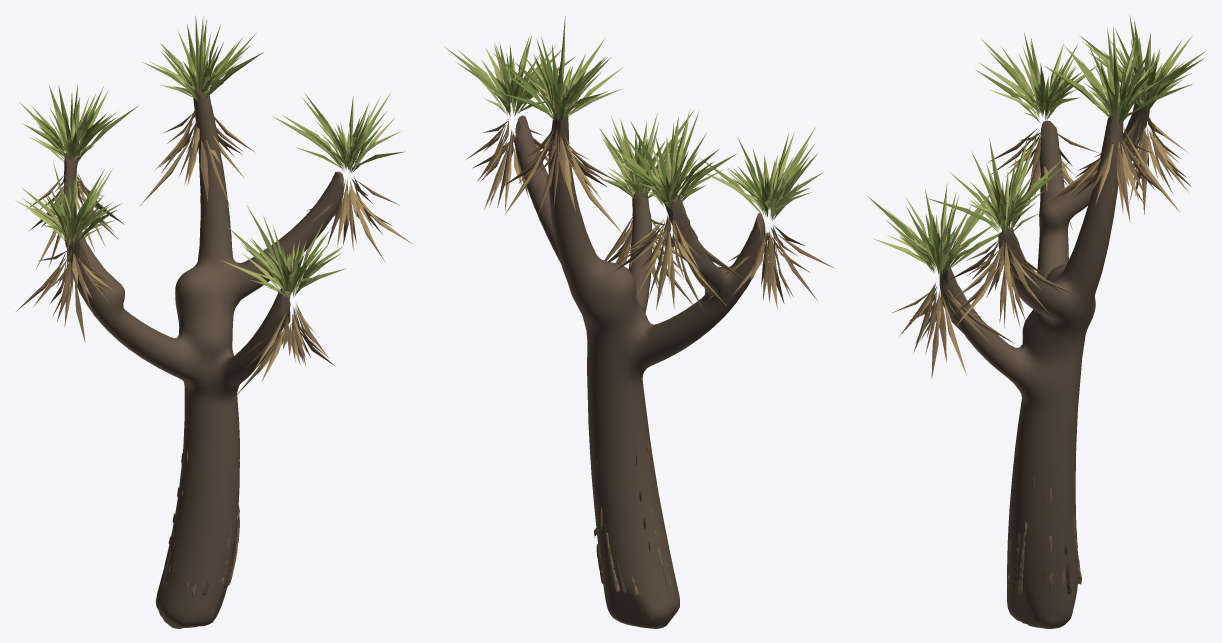
The model's file is joshua.glb.
3 views of the same model, side by side, from view 1: azimuth 30°, elevation 25°; view 2: azimuth 150°, elevation 25°; view 3: azimuth 270°, elevation 25° (orthographic). The views are drawn at different scales.
Visible parts, largest first — view 1: bark19, light22, green21, olive20, dry24, straw23; view 2: bark19, dry24, green21, light22, olive20, straw23; view 3: bark19, dry24, light22, green21, olive20, straw23.
Boxes of the visible parts, x1,y1,x2,y2 form: bark19: (64,87,343,628); light22: (15,16,400,298); green21: (19,15,390,296); olive20: (35,19,404,293); dry24: (16,110,399,395); straw23: (26,113,413,381); bark19: (515,107,765,628); dry24: (466,121,834,310); green21: (445,16,817,216); light22: (457,35,823,221); olive20: (456,35,814,218); straw23: (478,117,794,308); bark19: (939,95,1151,628); dry24: (899,117,1191,378); light22: (872,26,1185,275); green21: (886,15,1206,274); olive20: (867,21,1205,273); straw23: (892,119,1189,375).
Size of the model in its own units: 2.91 by 4.27 by 2.19.
